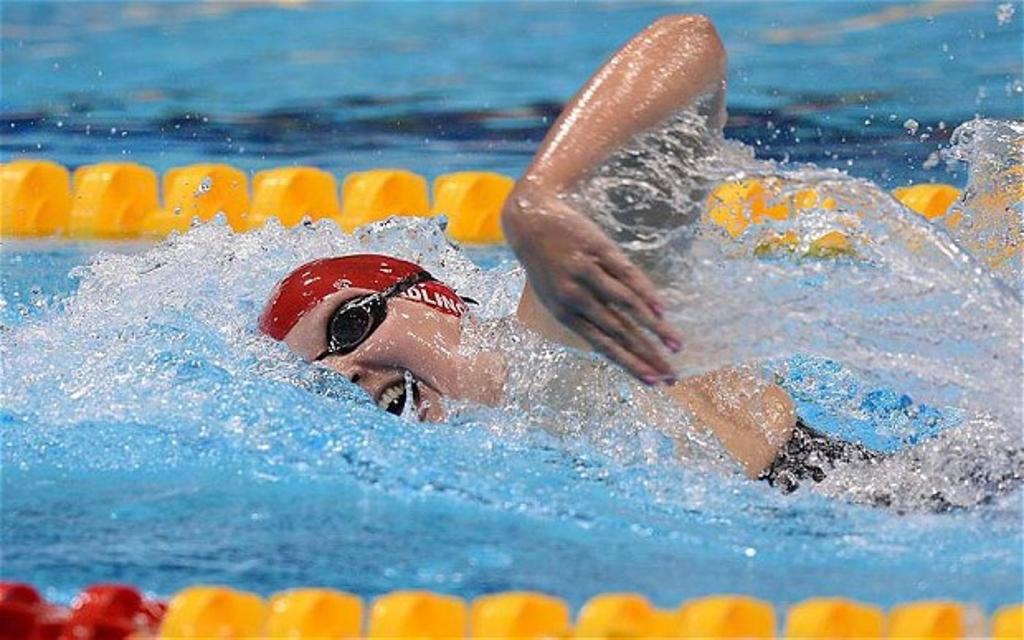face: (280, 280, 468, 454)
